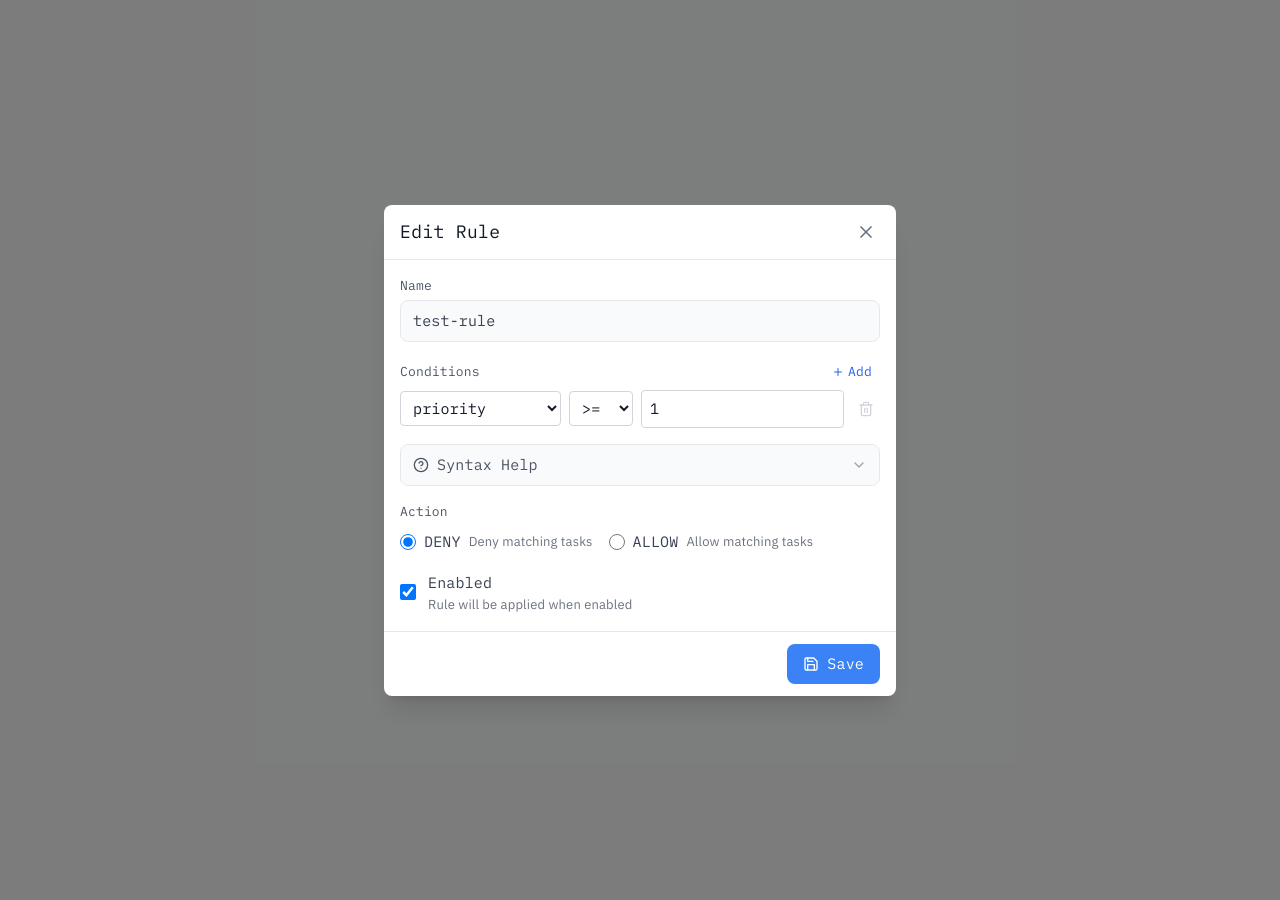
Test case: EditRuleModal › condition add/remove › adds a new condition row when clicking Add
The image size is (1280, 900).
Check: the number of fields with placeholder "value" is 1, box [641,390,844,428]
// Click Add button
What coordinates should you click on to do the following:
click the button "Add"
I would click on:
 (852, 372)
Its box is [824,358,880,386].
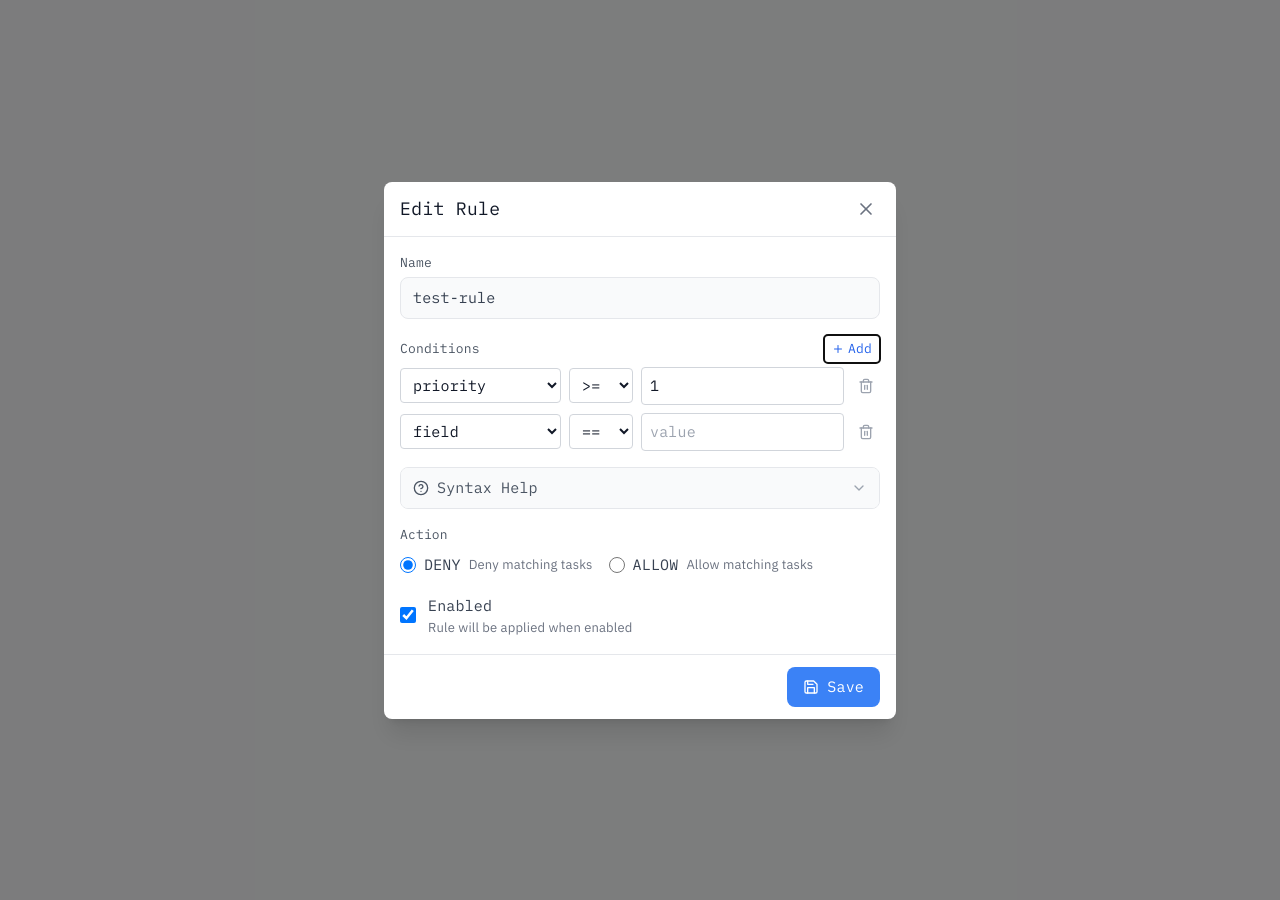
Check: the number of fields with placeholder "value" is 2, box [641,366,844,404]; [641,412,844,450]
